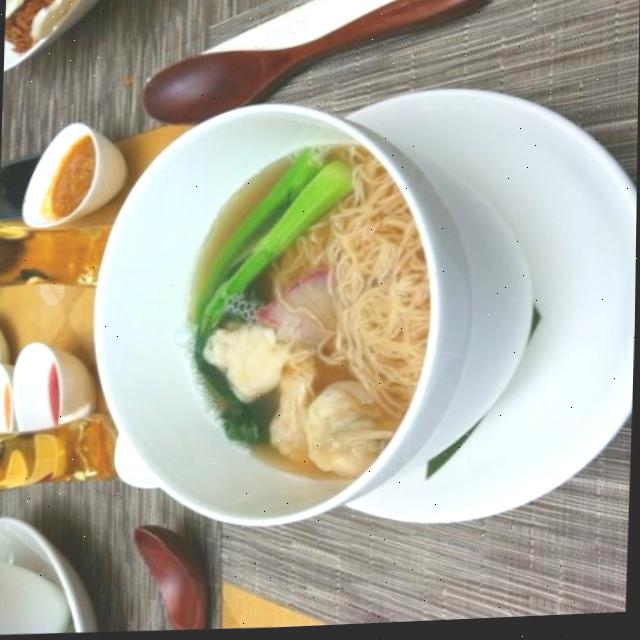汤锅炖物: (64, 104, 490, 533)
